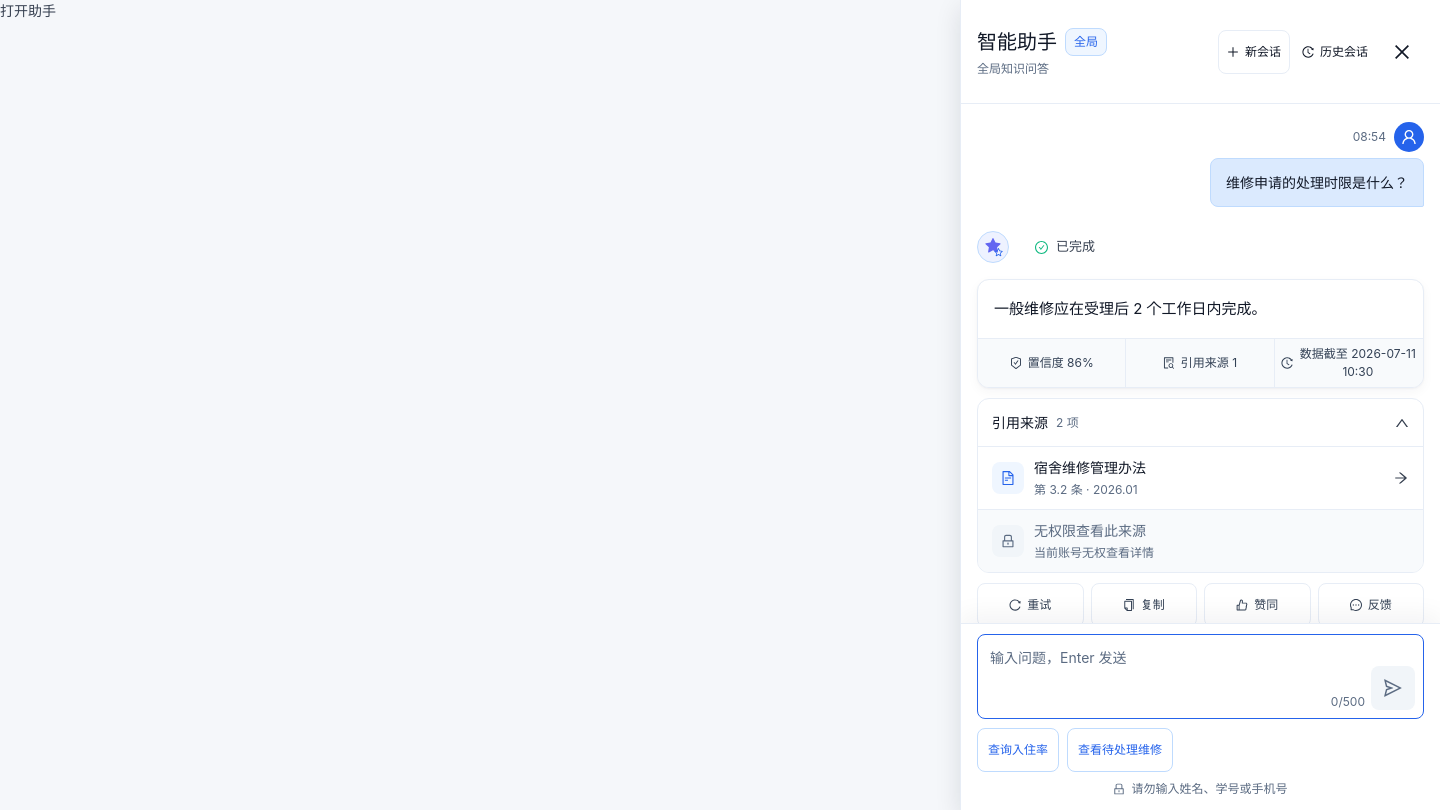
it: AiAssistantHost › Clipboard 真实写入成功后才显示已复制
Click the button with aria-label "复制此回答": (1144, 605) [1090,583,1197,627]
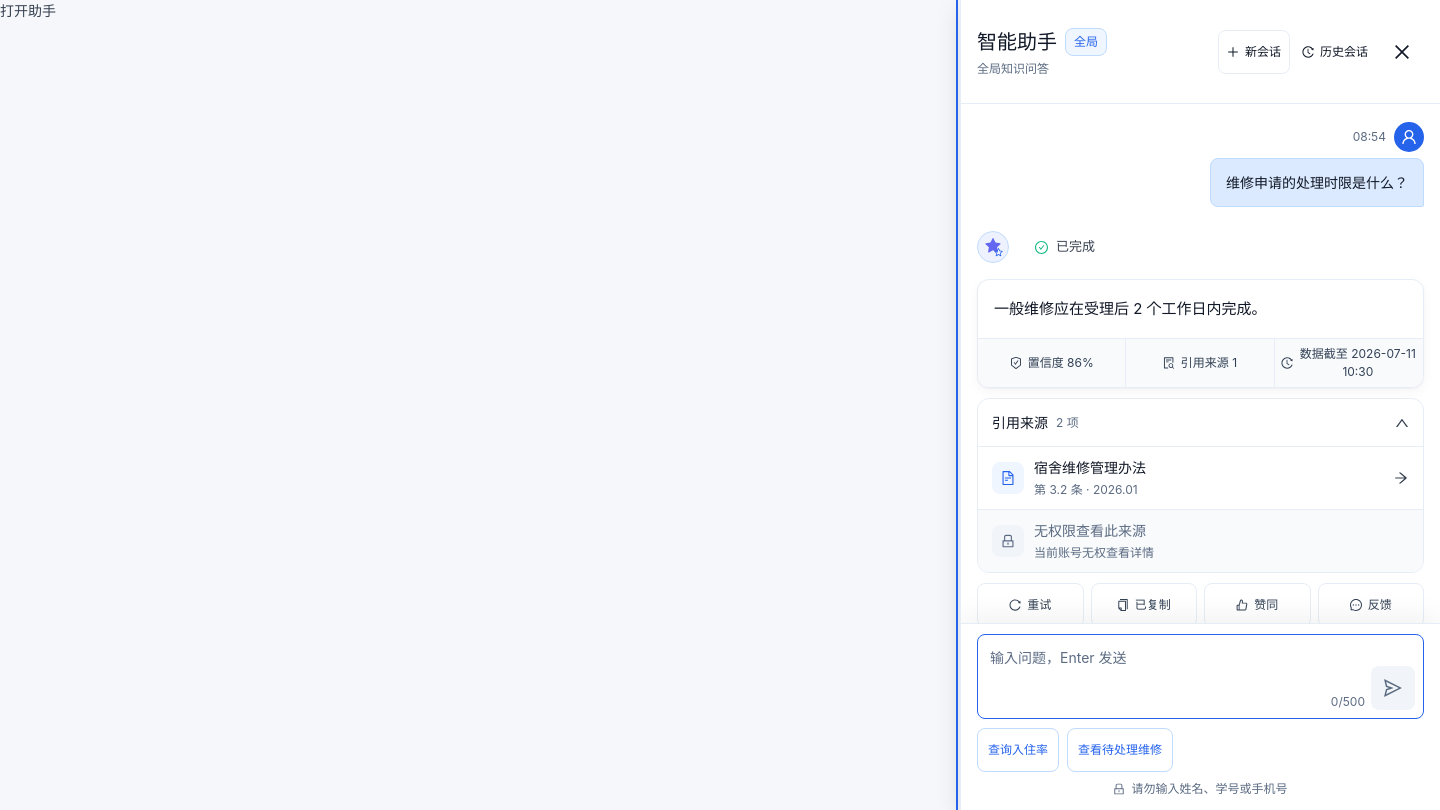
Expected: the button with aria-label "复制此回答" reads "已复制", [1090,583,1197,623]
